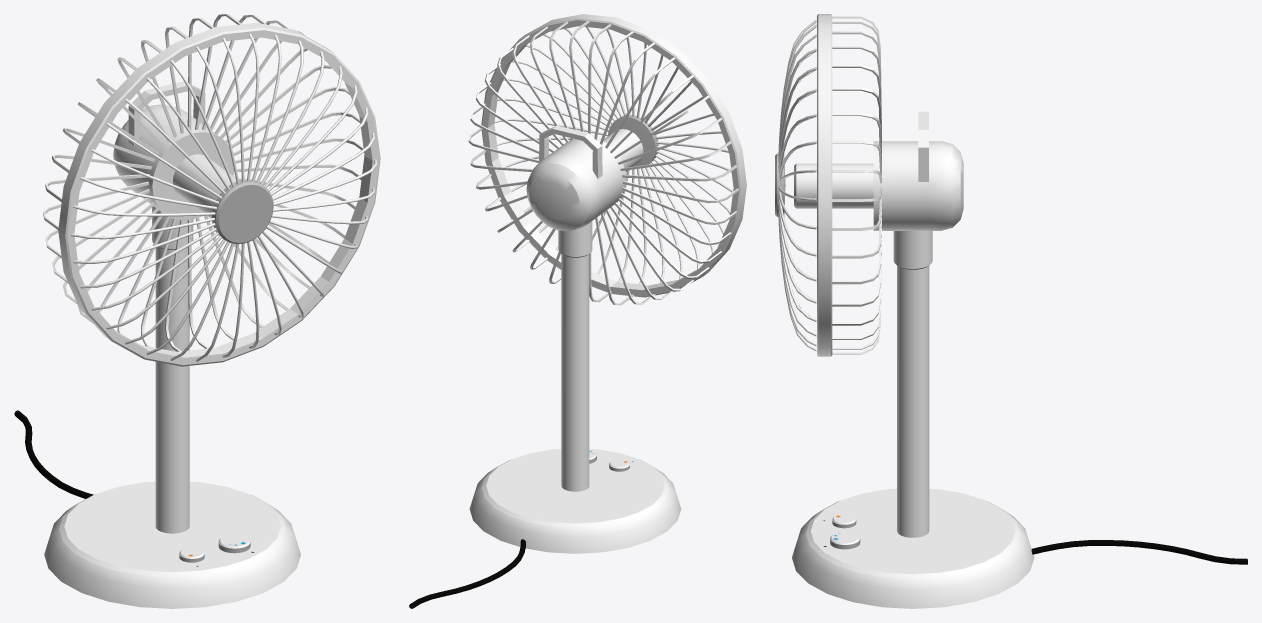
The model's file is fan_body.fbx.
3 views of the same model, side by side, from view 1: azimuth 30°, elevation 25°; view 2: azimuth 150°, elevation 25°; view 3: azimuth 270°, elevation 25° (orthographic). The views are drawn at different scales.
Parts seen in each view (by area): view 1: fan_A; view 2: fan_A; view 3: fan_A.
Part boxes in pixels (bbox=[...]): fan_A: bbox=[14, 14, 380, 608]; fan_A: bbox=[409, 14, 746, 608]; fan_A: bbox=[775, 14, 1247, 608].
Size of the model in its own units: 31.01 by 52.52 by 42.62.
1 material, 1 textured.
